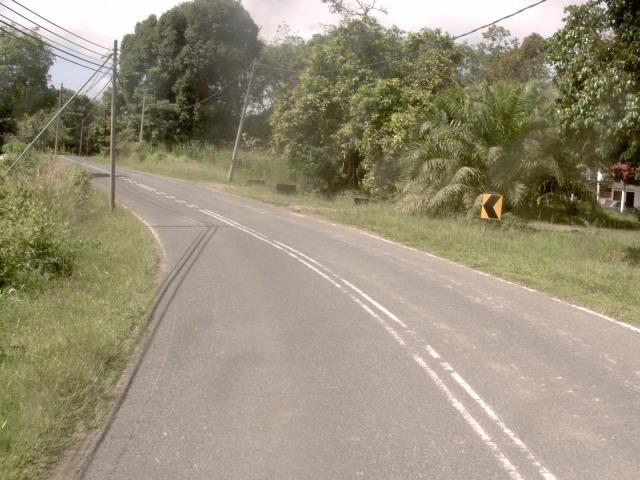traffic_sign: (473, 185, 509, 228)
